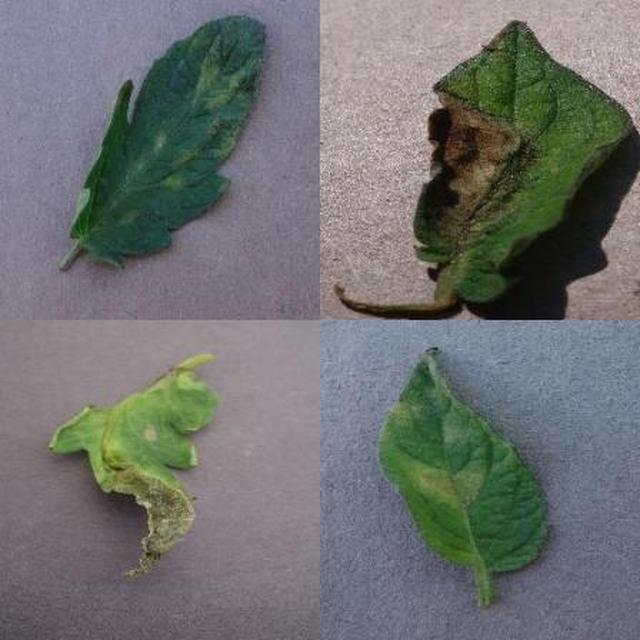Leaf Mold: (190, 204, 640, 640)
